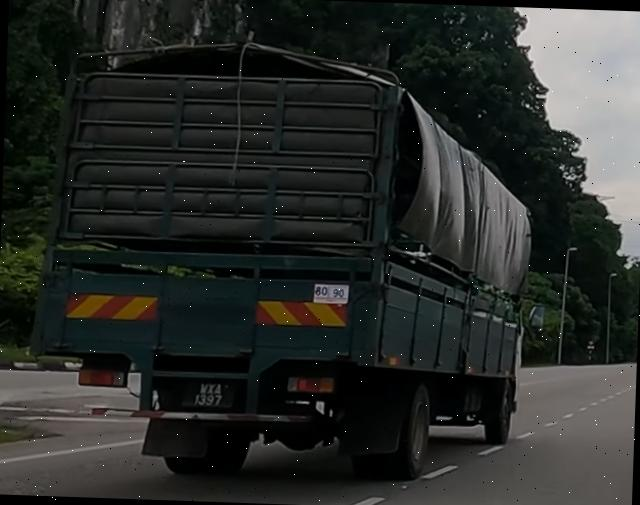License_Plate: (180, 378, 236, 411)
